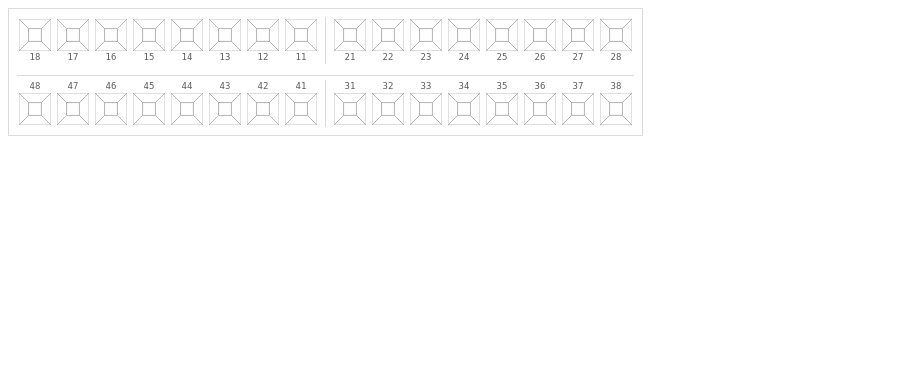
Scenario: Odontogram — interactivity › detail panel shows tooth number
Click the button "16".
click(111, 40)  # box top-left (93, 17), bottom-right (129, 64)
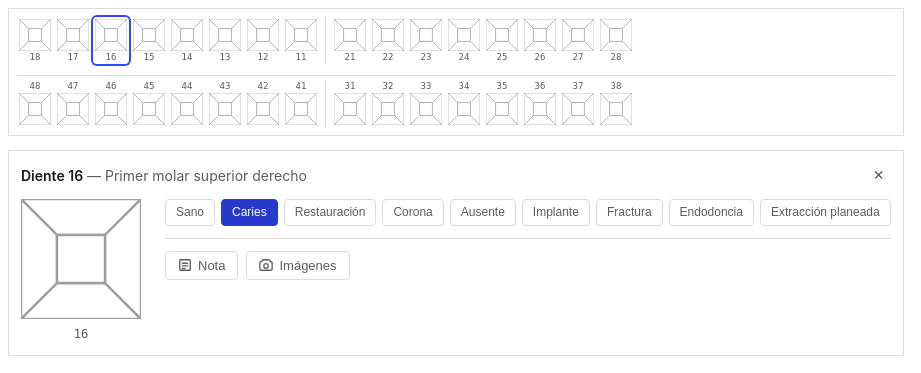
Expected: the element with test id "tooth-detail-panel" shows "Diente 16", top-left (21, 166), bottom-right (83, 184)
